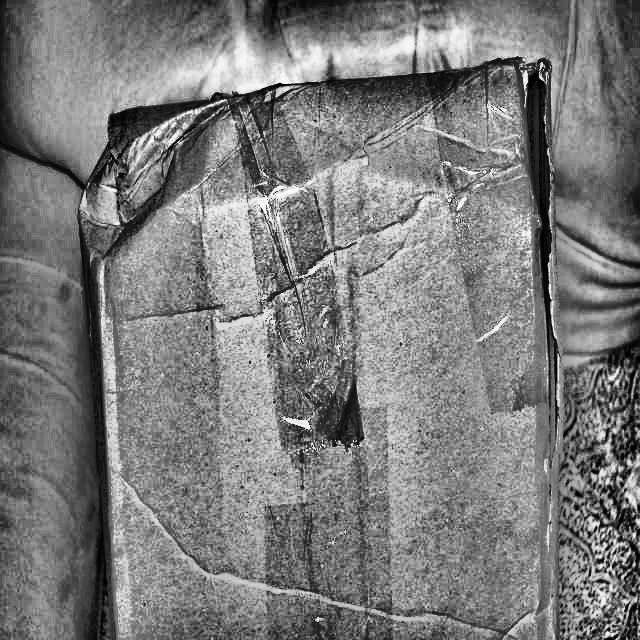box: (66, 45, 568, 639)
hole: (511, 61, 564, 355)
